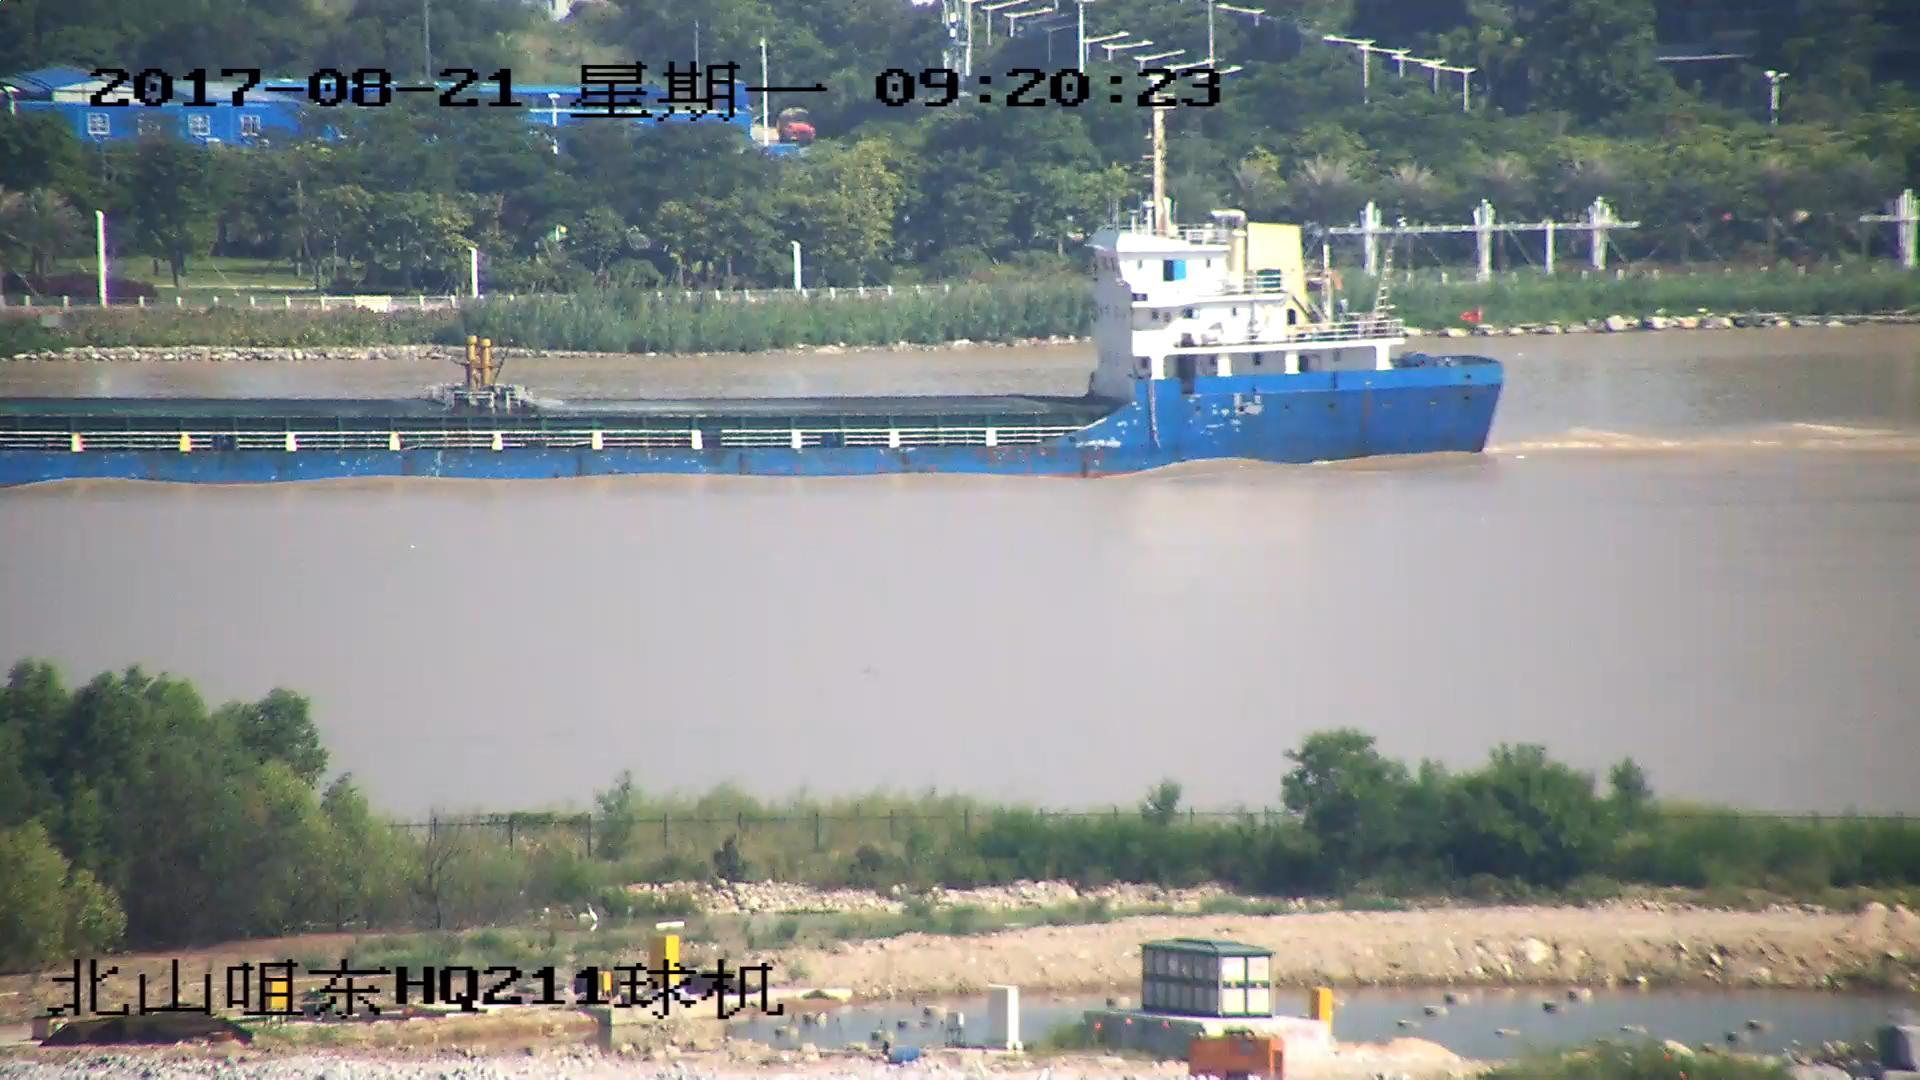Ship: (3, 117, 1507, 483)
